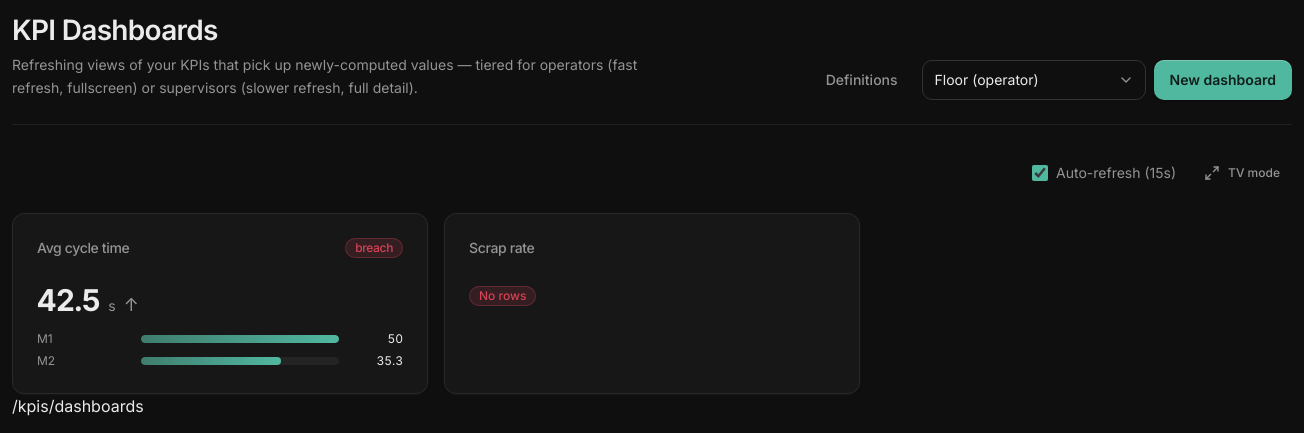
Scenario: KpiDashboards › switches dashboards from the picker
expect the heading "Avg cycle time breach" is shown: met, box [37,238,403,258]
Select "Weekly (supervisor)" in the dropdown named "Weekly (supervisor)": (1034, 80) [922,60,1146,100]
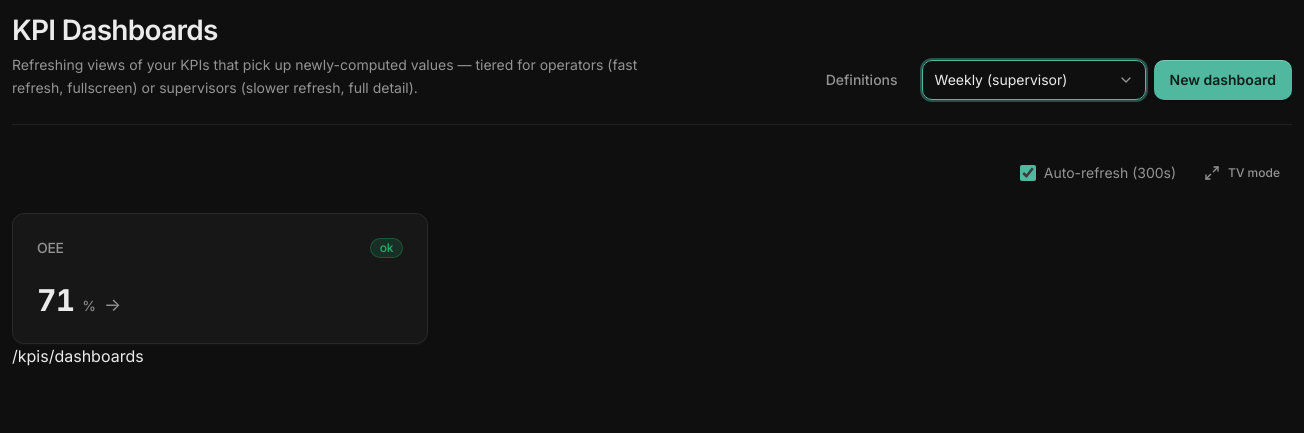
expect the heading "OEE ok" is shown: met, box [37,238,403,258]
expect the text "71" is shown: met, box [37,282,74,318]
expect the text "→" is shown: met, box [104,290,121,318]
